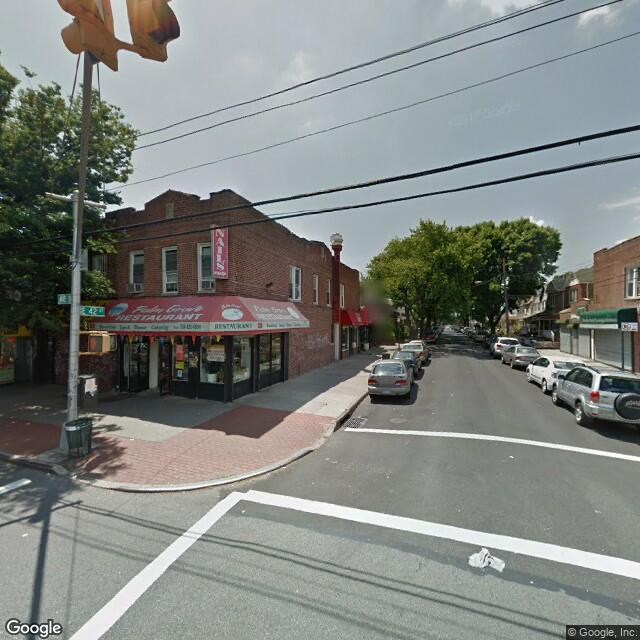litter: (463, 546, 508, 571)
